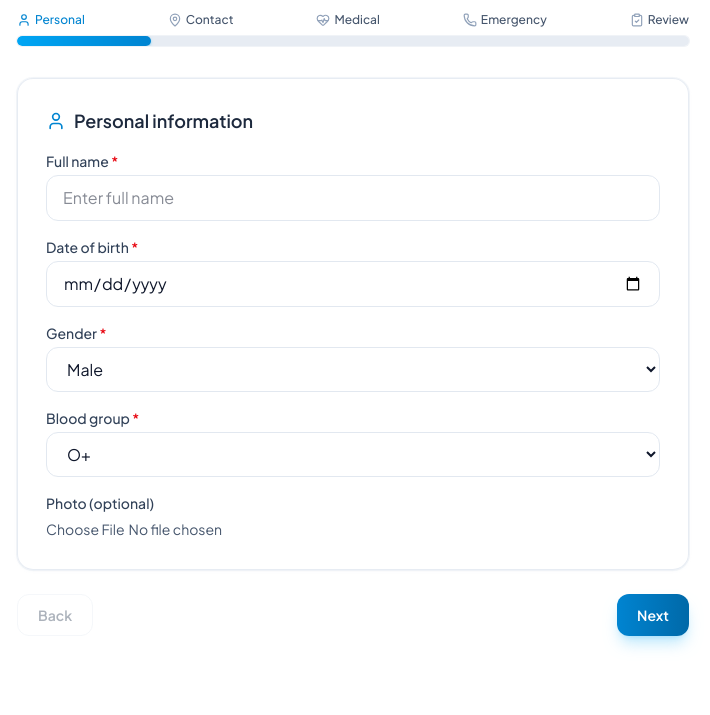
Test: PatientRegistrationForm › shows validation errors when Next is pressed with empty step 1
Click the button "Next" at coordinates (653, 615), box [617,594,689,636]
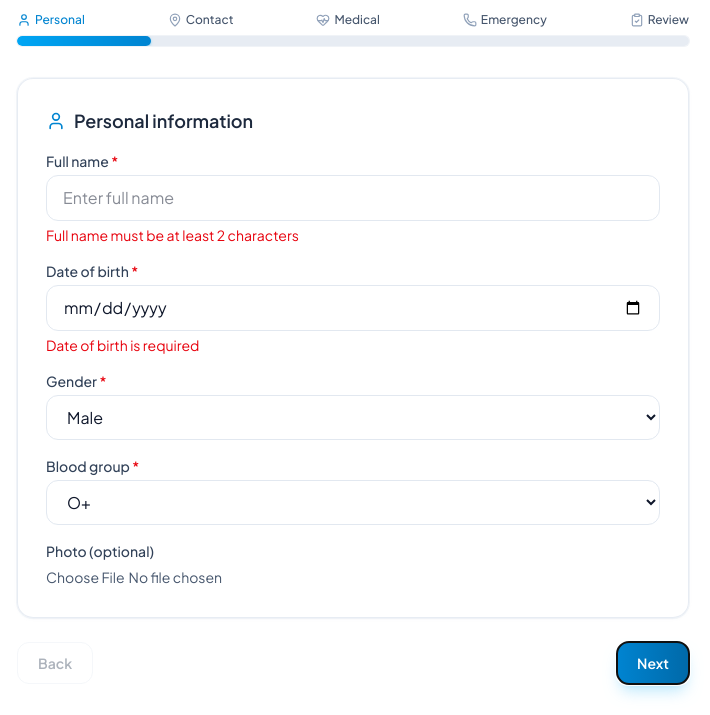
Expected: the text "Full name must be at least 2 characters" is shown, [46,226,299,244]
